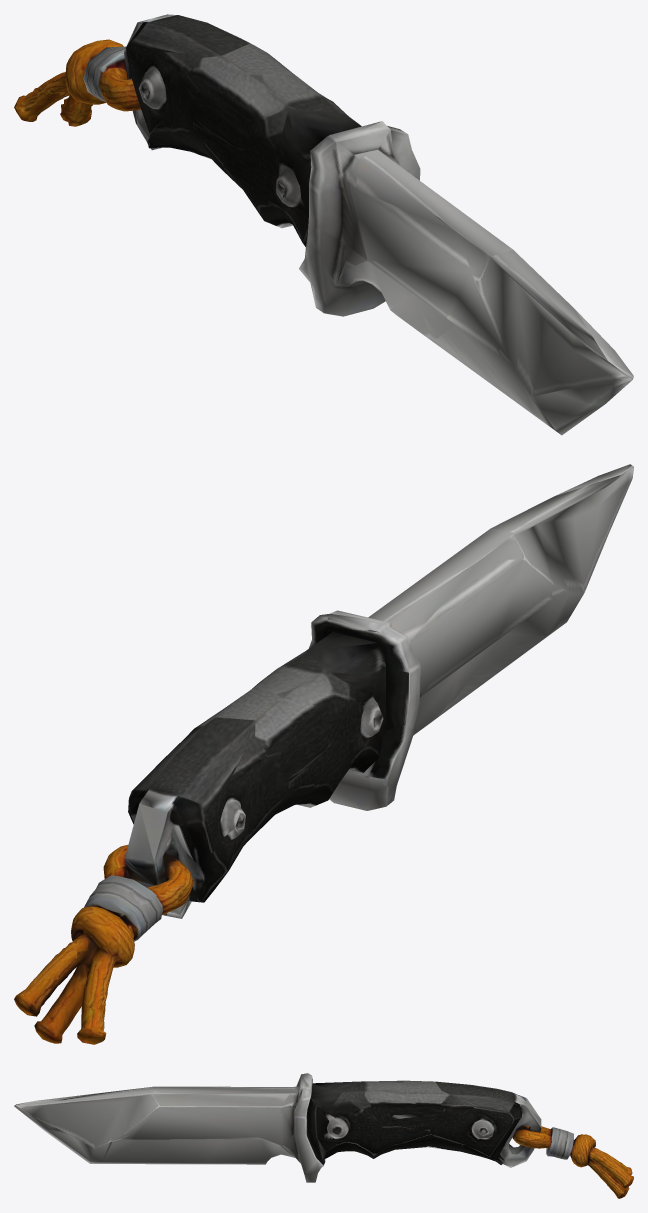
The model's file is wpn_kn_tanto_tp.glb.
The picture shows the model from 3 angles, top to bottom: view 1: azimuth 30°, elevation 25°; view 2: azimuth 150°, elevation 25°; view 3: azimuth 270°, elevation 25°; orthographic projection. The views are drawn at different scales.
Visible parts, largest first — view 1: body; view 2: body; view 3: body.
Boxes of the visible parts, bbox=[...] form: body: bbox=[14, 14, 633, 435]; body: bbox=[14, 464, 633, 1044]; body: bbox=[14, 1073, 633, 1198].
Bounding box in the file's own units: 0.0339 × 0.0686 × 0.3359.
Materials: 1 (1 with a texture image).
